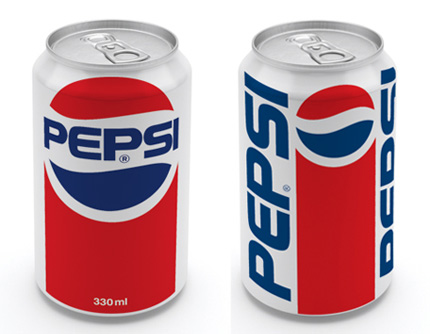pepsi: (40, 76, 177, 210), (295, 79, 374, 159)
